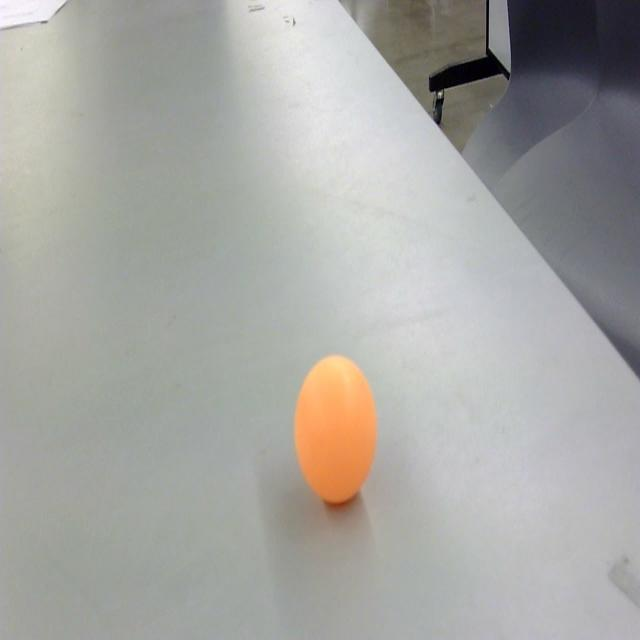ball: (290, 352, 380, 508)
